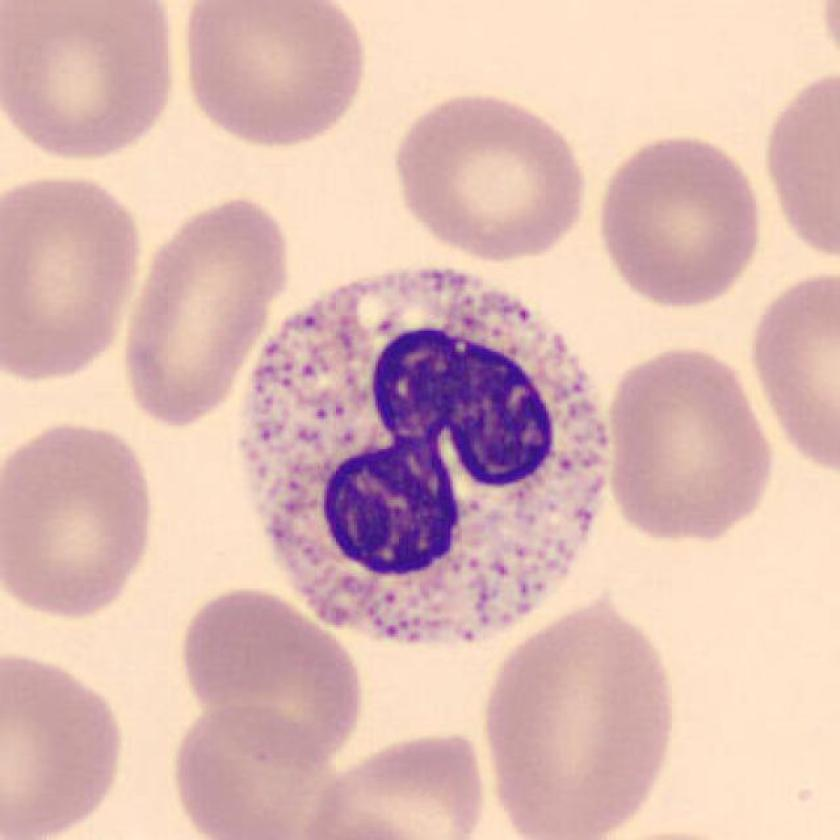neutrophil: (243, 270, 608, 646)
